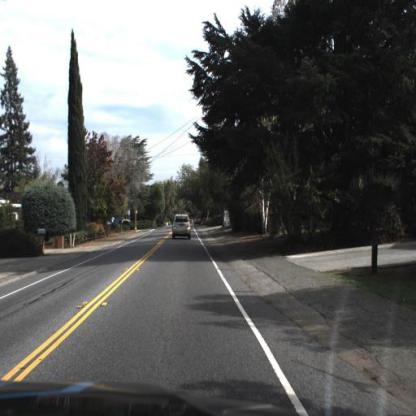car: (170, 211, 194, 240)
